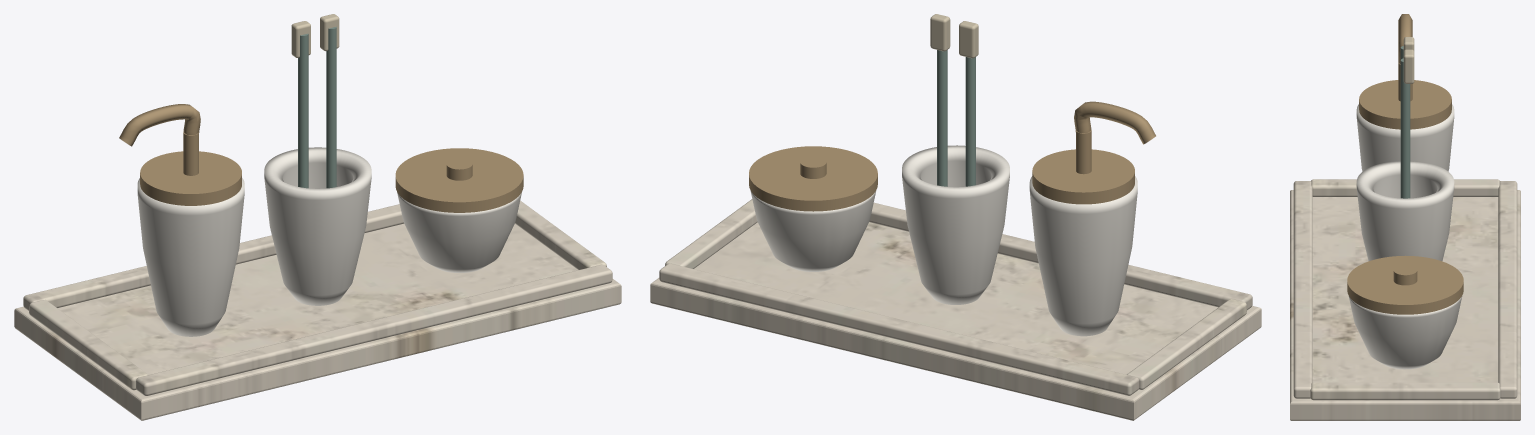
The model's file is bath-countertop-set.glb.
The picture shows the model from 3 angles, left to right: view 1: azimuth 30°, elevation 25°; view 2: azimuth 150°, elevation 25°; view 3: azimuth 270°, elevation 25°; orthographic projection. The views are drawn at different scales.
Parts seen in each view (by area): view 1: stone_surfaces, ceramic_surfaces, bronze_surfaces, sage_surfaces, linen_surfaces; view 2: stone_surfaces, ceramic_surfaces, bronze_surfaces, sage_surfaces, linen_surfaces; view 3: stone_surfaces, ceramic_surfaces, bronze_surfaces, sage_surfaces, linen_surfaces.
Boxes of the visible parts, left/top/right/bottom form: stone_surfaces: left=14, top=201, right=621, bottom=420; ceramic_surfaces: left=137, top=147, right=521, bottom=336; bronze_surfaces: left=119, top=104, right=523, bottom=212; sage_surfaces: left=298, top=26, right=336, bottom=188; linen_surfaces: left=291, top=14, right=339, bottom=57; stone_surfaces: left=650, top=199, right=1261, bottom=420; ceramic_surfaces: left=750, top=145, right=1137, bottom=336; bronze_surfaces: left=749, top=101, right=1155, bottom=211; sage_surfaces: left=937, top=50, right=975, bottom=186; linen_surfaces: left=930, top=14, right=978, bottom=58; stone_surfaces: left=1290, top=179, right=1520, bottom=420; ceramic_surfaces: left=1348, top=104, right=1462, bottom=369; bronze_surfaces: left=1347, top=14, right=1463, bottom=314; sage_surfaces: left=1400, top=46, right=1410, bottom=198; linen_surfaces: left=1403, top=37, right=1414, bottom=83.
Size of the model in its own units: 0.424 by 0.2495 by 0.194.
5 materials, 1 textured.
